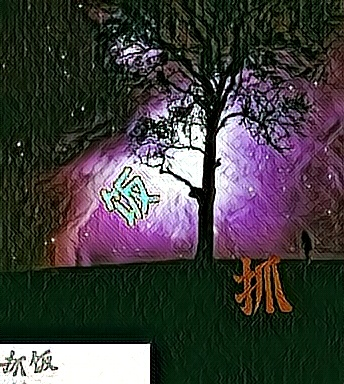B7B9: (97, 165, 160, 232)
D7A5: (232, 251, 295, 318)
